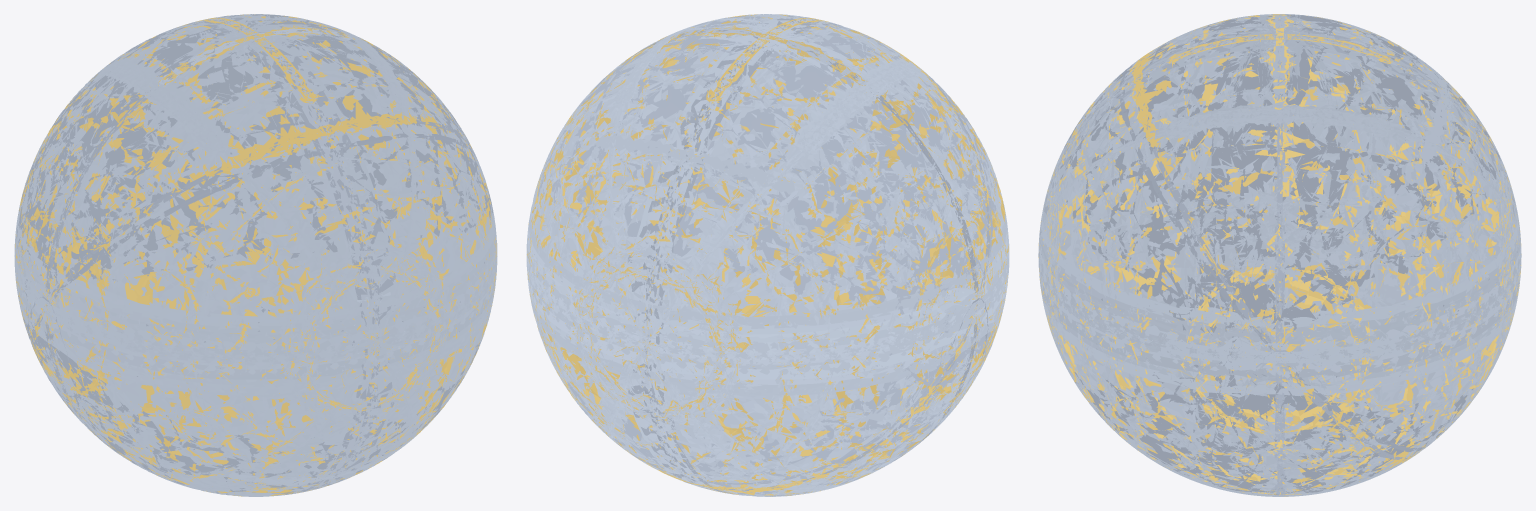
File: row-5.1.glb
The picture shows the model from 3 angles, left to right: view 1: azimuth 30°, elevation 25°; view 2: azimuth 150°, elevation 25°; view 3: azimuth 270°, elevation 25°; orthographic projection.
Visible parts, largest first — view 1: row_5_1, structure, anodes; view 2: row_5_1, structure, anodes; view 3: row_5_1, structure, anodes.
Boxes of the visible parts, x1,y1,x2,y2 form: row_5_1: (14,14,497,496); structure: (16,14,494,494); anodes: (15,14,496,496); row_5_1: (526,14,1009,496); structure: (534,14,1007,496); anodes: (527,14,1008,496); row_5_1: (1038,14,1521,496); structure: (1039,14,1520,495); anodes: (1038,14,1521,496).
Bounding box in the file's own units: 2 × 2 × 2.
